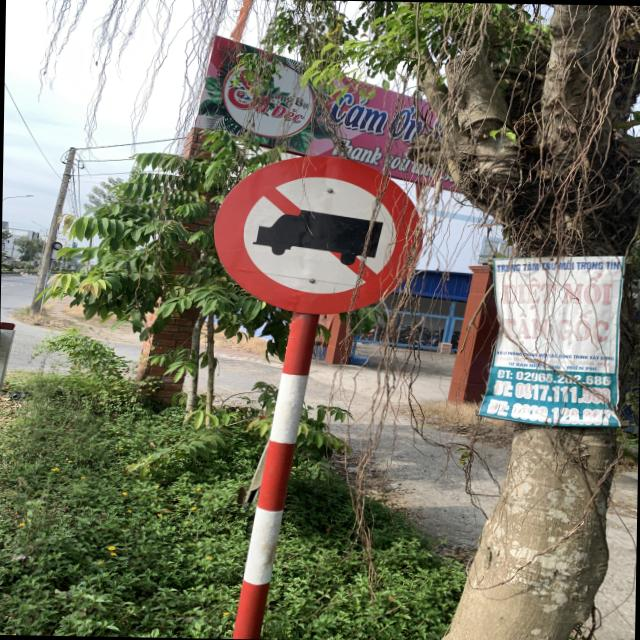Cam_Xe_Tai: (212, 154, 428, 318)
